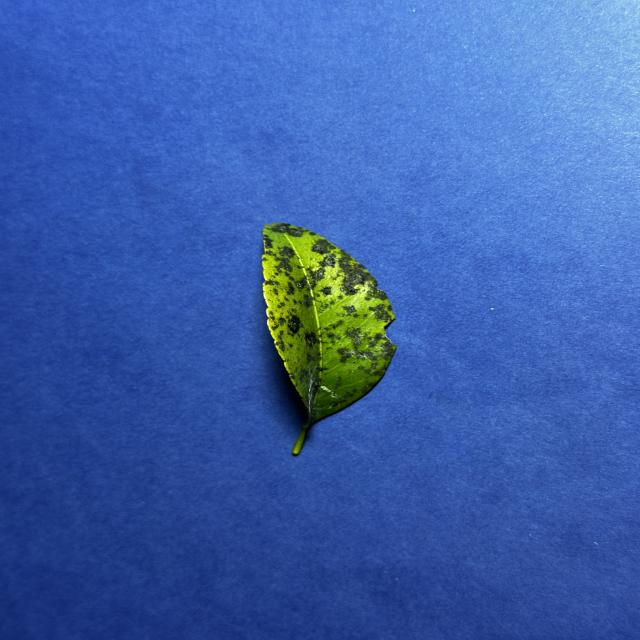sooty_mold: (262, 223, 396, 455)
